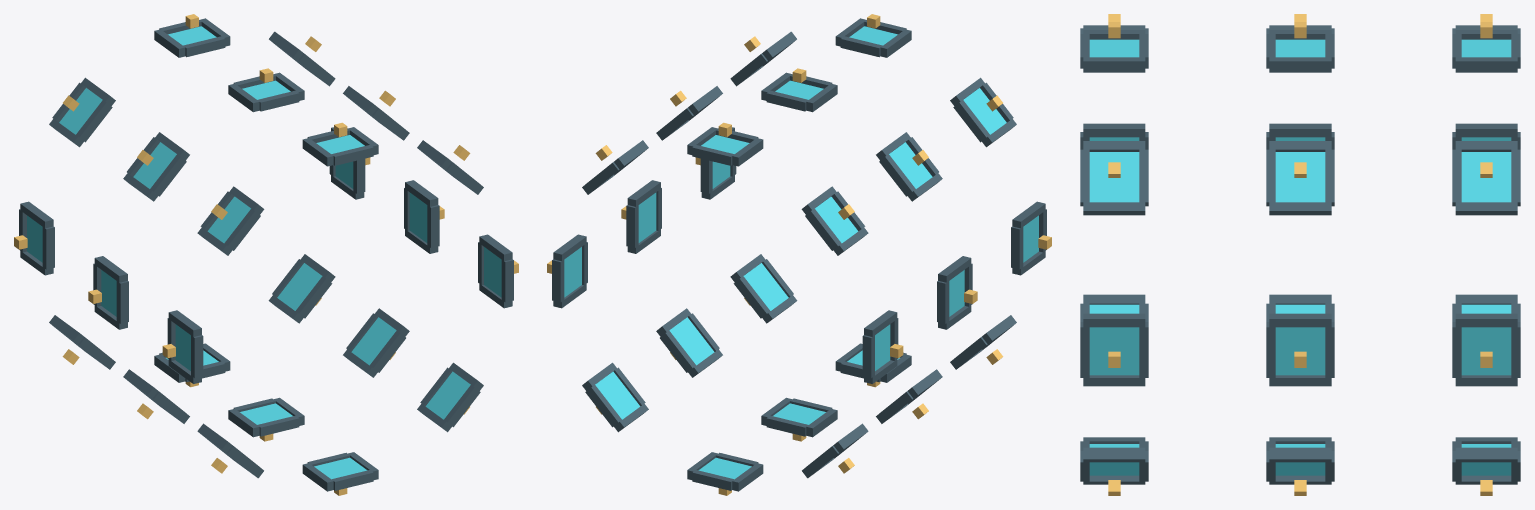
Rendered from LIQUID-DOSE-MAP-insert.glb.
3 renders of one model, left to right at view 1: azimuth 30°, elevation 25°; view 2: azimuth 150°, elevation 25°; view 3: azimuth 270°, elevation 25°, orthographic. The views are drawn at different scales.
Visible parts, largest first — view 1: holder, coupon, index; view 2: holder, coupon, index; view 3: holder, coupon, index.
Boxes of the visible parts, <box> form: holder: <box>19,18,513,491</box>; coupon: <box>27,26,501,479</box>; index: <box>14,14,518,495</box>; holder: <box>552,18,1046,491</box>; coupon: <box>564,26,1038,479</box>; index: <box>547,14,1051,495</box>; holder: <box>1080,25,1520,484</box>; coupon: <box>1089,39,1511,475</box>; index: <box>1108,14,1492,495</box>.
Size of what is drawn, in the model's own units: 0.164 by 0.164 by 0.142.
